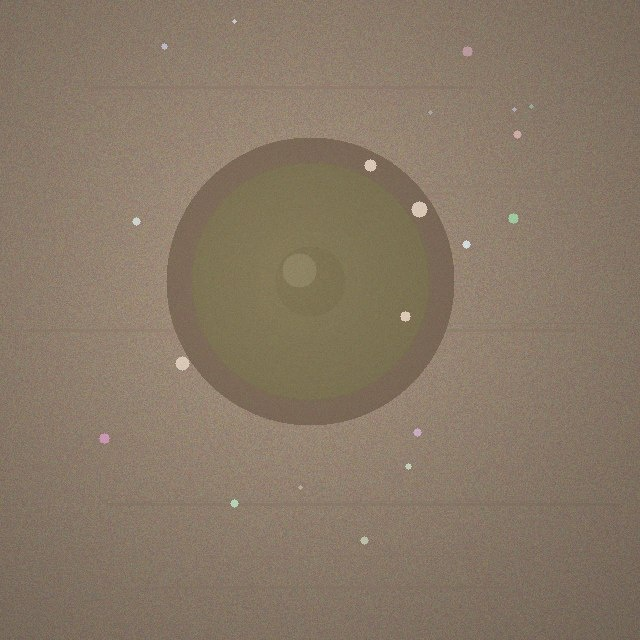overburn: (166, 137, 454, 425)
